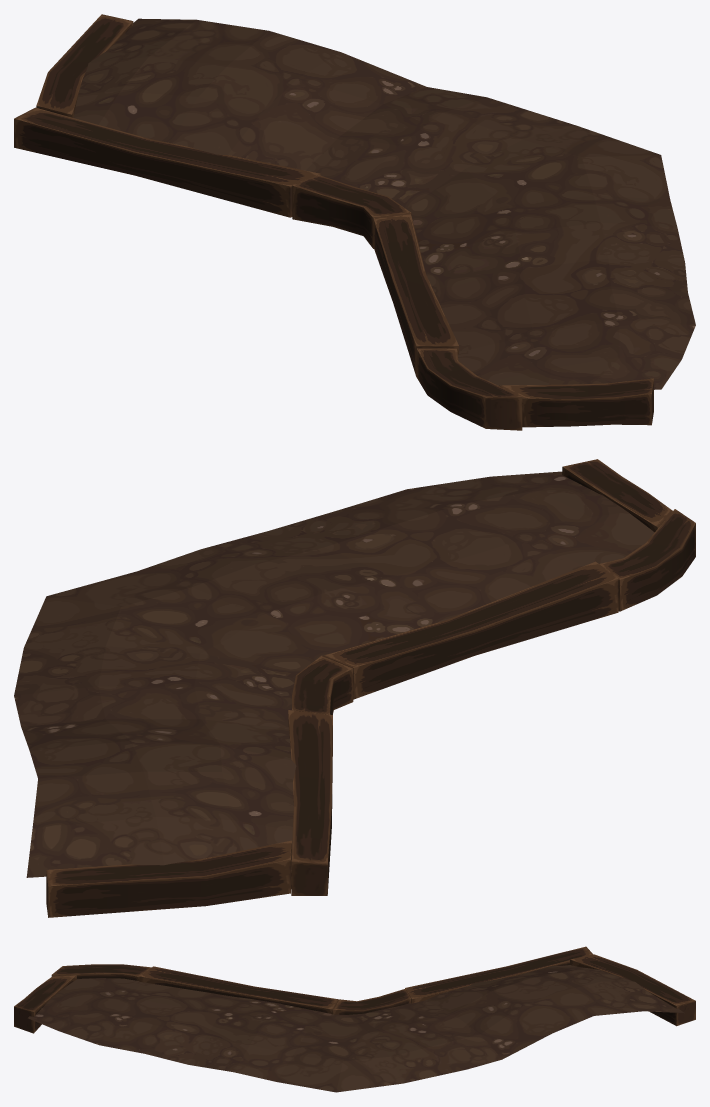
The model's file is GardenSec7.fbx.
3 renders of one model, top to bottom at view 1: azimuth 30°, elevation 25°; view 2: azimuth 150°, elevation 25°; view 3: azimuth 270°, elevation 25°, orthographic. The views are drawn at different scales.
Visible parts, largest first — view 1: MOD_Column_01_large_2.003; view 2: MOD_Column_01_large_2.003; view 3: MOD_Column_01_large_2.003.
Part boxes in pixels (bbox=[...]): MOD_Column_01_large_2.003: bbox=[14, 14, 695, 430]; MOD_Column_01_large_2.003: bbox=[14, 459, 695, 917]; MOD_Column_01_large_2.003: bbox=[14, 946, 695, 1092].
Size of the model in its own units: 8 by 0.9184 by 16.15.
Materials: 2 (2 with a texture image).
